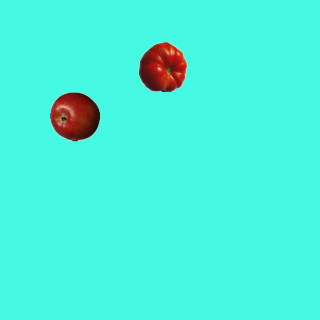Apple Braeburn: (49, 91, 99, 141)
Tomato 3: (137, 41, 187, 91)
